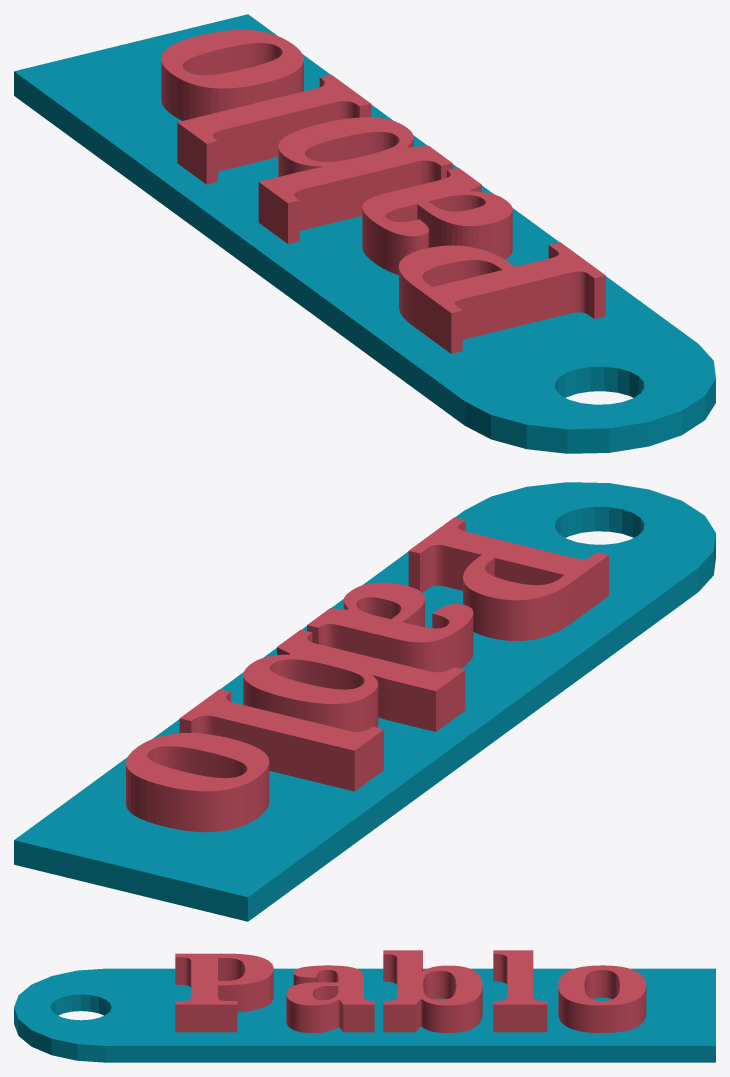
The model's file is asset.glb.
3 renders of one model, top to bottom at view 1: azimuth 30°, elevation 25°; view 2: azimuth 150°, elevation 25°; view 3: azimuth 270°, elevation 25°, orthographic. The views are drawn at different scales.
Visible parts, largest first — view 1: Mesh_Mesh_head_geo.001_lambert2SG.001; view 2: Mesh_Mesh_head_geo.001_lambert2SG.001; view 3: Mesh_Mesh_head_geo.001_lambert2SG.001.
Boxes of the visible parts, x1,y1,x2,y2 form: Mesh_Mesh_head_geo.001_lambert2SG.001: [14, 14, 715, 453]; Mesh_Mesh_head_geo.001_lambert2SG.001: [14, 482, 715, 921]; Mesh_Mesh_head_geo.001_lambert2SG.001: [14, 950, 715, 1062].
Bounding box in the file's own units: 30 × 8 × 115.
